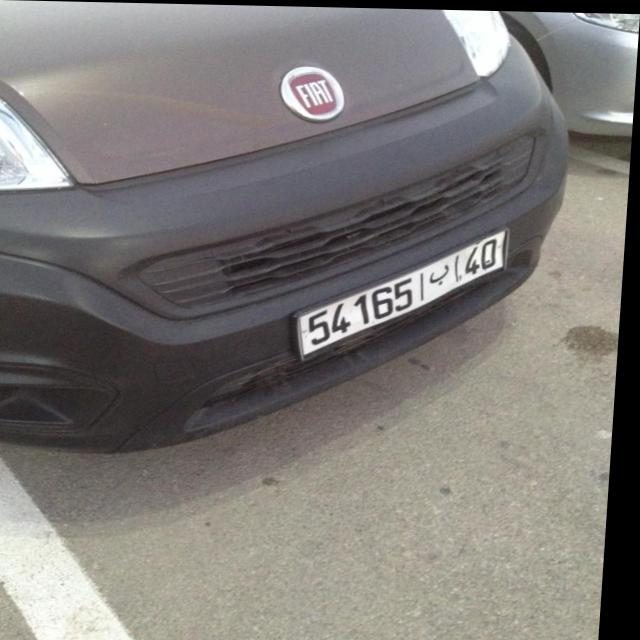License-Plate: (302, 230, 510, 355)
